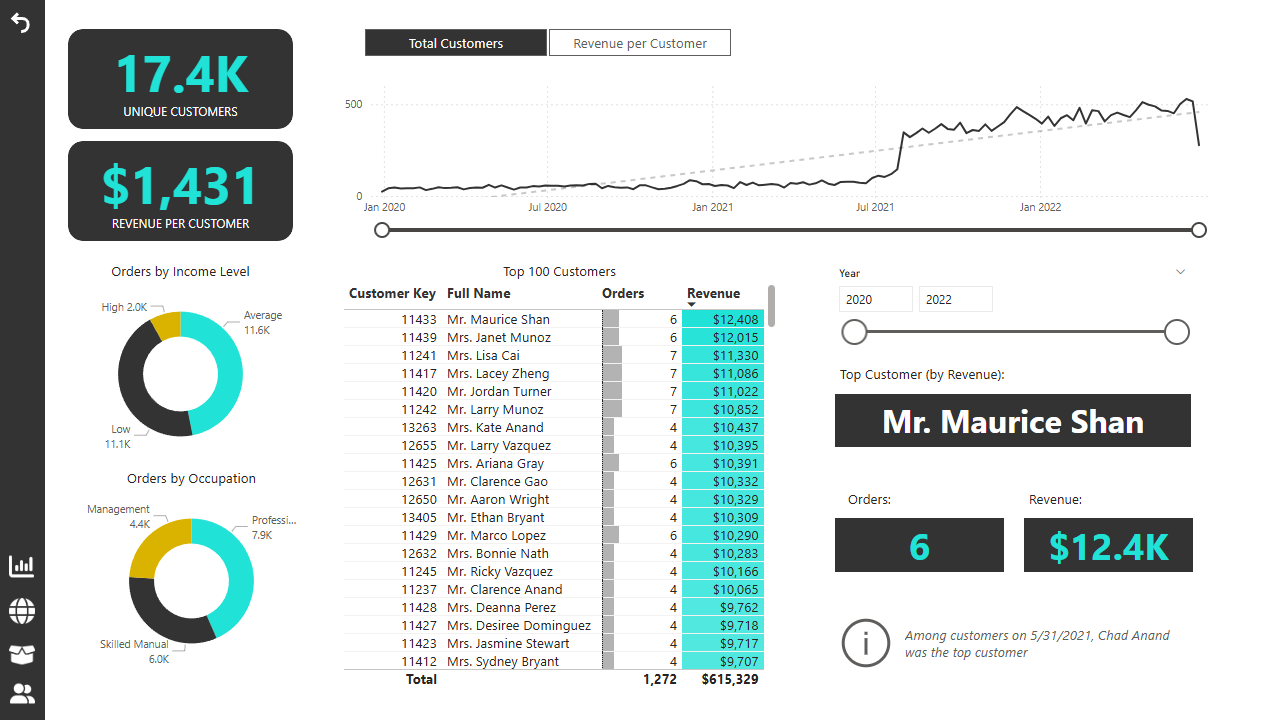

The page's visual inventory and layout, read from the dashboard file:
{"tool":"powerbi","page":{"name":"Customer Detail","canvas":[1280,720],"ordinal":3},"visuals":[{"type":"shape","title":"Left Nav Background","box":[0,0,45,720],"z":0},{"type":"shape","box":[68,29.1,224.9,100.3],"z":0,"group":"g1"},{"type":"shape","box":[68,140.8,224.9,100.3],"z":0,"group":"g2"},{"type":"actionButton","box":[5.2,548,33.2,35.9],"z":0,"group":"g3"},{"type":"group","id":"g1","title":"Customer KPI","box":[68,29.1,224.9,100.3],"z":1000},{"type":"card","fields":{"Values":["Measures Table.Total Customers"]},"box":[79.3,29.1,202.2,100.3],"z":1000,"group":"g1"},{"type":"card","fields":{"Values":["Measures Table.Revenue Per Customer"]},"box":[79.3,140.8,202.2,100.3],"z":1000,"group":"g2"},{"type":"actionButton","box":[5.2,591.7,33.6,38.5],"z":1000,"group":"g3"},{"type":"group","id":"g2","title":"Customer Rev KPI","box":[68,140.8,224.9,100.3],"z":2000},{"type":"actionButton","box":[5.2,634.3,33.6,40.6],"z":2000,"group":"g3"},{"type":"lineChart","fields":{"Y":["Measures Table.Total Customers"],"Category":["Calendar Lookup.Start of Week"]},"box":[338.5,71.6,886.6,169.3],"z":3000},{"type":"actionButton","box":[6.2,677,33.6,33.3],"z":3000,"group":"g3"},{"type":"donutChart","title":"Orders by Income Level","fields":{"Category":["Customer Lookup.Income Level"],"Y":["Measures Table.Total Orders"]},"box":[68,262.1,224.9,207.1],"z":4000},{"type":"donutChart","title":"Orders by Occupation","fields":{"Y":["Measures Table.Total Orders"],"Category":["Customer Lookup.Occupation"]},"box":[79.3,469.2,224.9,207.1],"z":5000},{"type":"tableEx","title":"Top 100 Customers","fields":{"Values":["Customer Lookup.CustomerKey","Customer Lookup.FullName","Measures Table.Total Orders","Measures Table.Total Revenue"]},"box":[338.5,261.6,442.6,429.9],"z":6000},{"type":"card","fields":{"Values":["Min(Customer Lookup.FullName)"]},"box":[834.5,393.9,356,53.5],"z":7000},{"type":"card","fields":{"Values":["Measures Table.Total Orders"]},"box":[834.5,518.4,169.2,53.5],"z":8000},{"type":"card","fields":{"Values":["Measures Table.Total Revenue"]},"box":[1024.2,518.4,169.2,53.5],"z":9000},{"type":"textbox","box":[834.5,359.9,189.7,34],"z":10000},{"type":"textbox","box":[842.6,485.2,95.5,34],"z":11000},{"type":"textbox","box":[1023.8,485.2,95.5,34],"z":12000},{"type":"actionButton","box":[834.5,611.8,358.9,62.2],"z":13000},{"type":"actionButton","box":[5.8,7.8,32.1,29.2],"z":14000},{"type":"slicer","fields":{"Values":["Customer Metric Selection.Customer Metric Selection"]},"box":[338.5,22.4,416.4,40.3],"z":15000},{"type":"slicer","fields":{"Values":["Calendar Lookup.Year"]},"box":[825.8,261.6,372.5,90.5],"z":16000},{"type":"group","id":"g3","title":"Navigation Buttons","box":[5.2,548,34.6,162.3],"z":17000}]}

Visuals, with their boxes in screenshot pixels (x1, y1, x2, y2), scaled from the page's 1280x720 canvas onto the 1280x720 screenshot:
"Left Nav Background" shape: {"left": 0, "top": 0, "right": 45, "bottom": 719}
shape: {"left": 68, "top": 29, "right": 293, "bottom": 129}
shape: {"left": 68, "top": 141, "right": 293, "bottom": 241}
actionButton: {"left": 5, "top": 548, "right": 38, "bottom": 584}
"Customer KPI" group: {"left": 68, "top": 29, "right": 293, "bottom": 129}
card - Measures Table.Total Customers: {"left": 79, "top": 29, "right": 282, "bottom": 129}
card - Measures Table.Revenue Per Customer: {"left": 79, "top": 141, "right": 282, "bottom": 241}
actionButton: {"left": 5, "top": 592, "right": 39, "bottom": 630}
"Customer Rev KPI" group: {"left": 68, "top": 141, "right": 293, "bottom": 241}
actionButton: {"left": 5, "top": 634, "right": 39, "bottom": 675}
lineChart - Measures Table.Total Customers x Calendar Lookup.Start of Week: {"left": 338, "top": 72, "right": 1225, "bottom": 241}
actionButton: {"left": 6, "top": 677, "right": 40, "bottom": 710}
"Orders by Income Level" donutChart: {"left": 68, "top": 262, "right": 293, "bottom": 469}
"Orders by Occupation" donutChart: {"left": 79, "top": 469, "right": 304, "bottom": 676}
"Top 100 Customers" tableEx: {"left": 338, "top": 262, "right": 781, "bottom": 692}
card - Min(Customer Lookup.FullName): {"left": 834, "top": 394, "right": 1190, "bottom": 447}
card - Measures Table.Total Orders: {"left": 834, "top": 518, "right": 1004, "bottom": 572}
card - Measures Table.Total Revenue: {"left": 1024, "top": 518, "right": 1193, "bottom": 572}
textbox: {"left": 834, "top": 360, "right": 1024, "bottom": 394}
textbox: {"left": 843, "top": 485, "right": 938, "bottom": 519}
textbox: {"left": 1024, "top": 485, "right": 1119, "bottom": 519}
actionButton: {"left": 834, "top": 612, "right": 1193, "bottom": 674}
actionButton: {"left": 6, "top": 8, "right": 38, "bottom": 37}
slicer - Customer Metric Selection.Customer Metric Selection: {"left": 338, "top": 22, "right": 755, "bottom": 63}
slicer - Calendar Lookup.Year: {"left": 826, "top": 262, "right": 1198, "bottom": 352}
"Navigation Buttons" group: {"left": 5, "top": 548, "right": 40, "bottom": 710}
